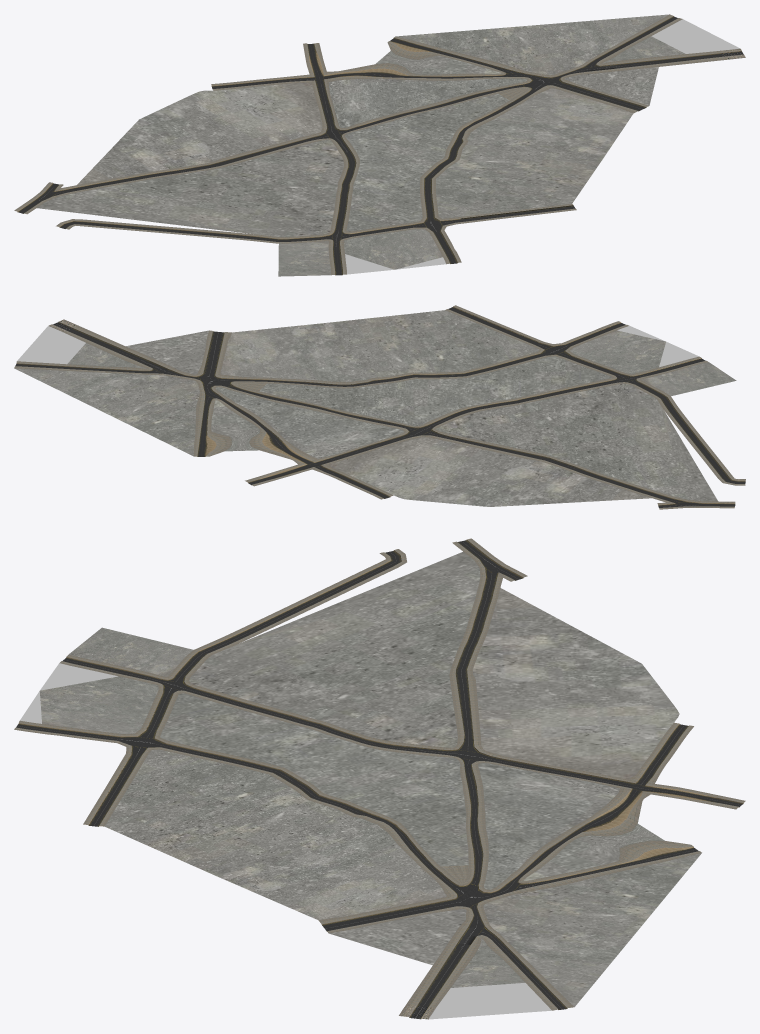
File: Street.fbx
3 renders of one model, top to bottom at view 1: azimuth 30°, elevation 25°; view 2: azimuth 150°, elevation 25°; view 3: azimuth 270°, elevation 25°, orthographic. The views are drawn at different scales.
Visible parts, largest first — view 1: Street; view 2: Street; view 3: Street.
Part boxes in pixels (x1,y1,x2,y2): Street: [14, 14, 745, 276]; Street: [14, 305, 745, 509]; Street: [14, 538, 745, 1019].
Bounding box in the file's own units: 79569 × 225 × 51166.
